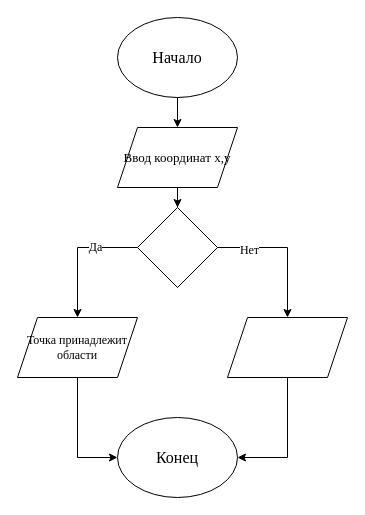
This 365x515 diagram has some shape labels left out. The shapes that lost their labels are listed below. From the top down, each one's centre as x and y in pixels, then its label:
the point at 177,247: Условие if(...)||(...)
the point at 287,347: Точка НЕ принадлежит области
